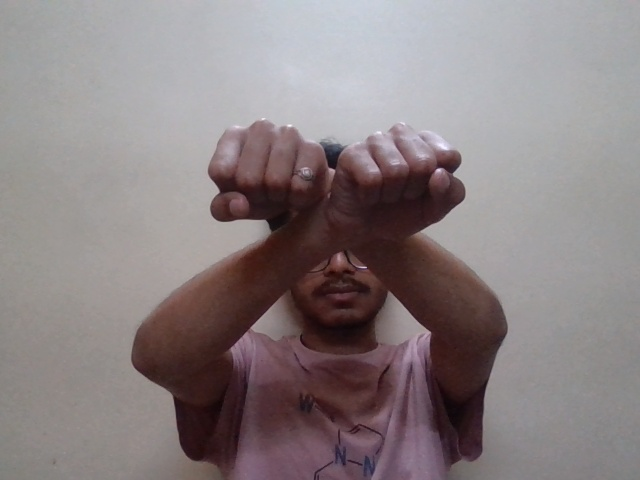work: (156, 83, 514, 282)
